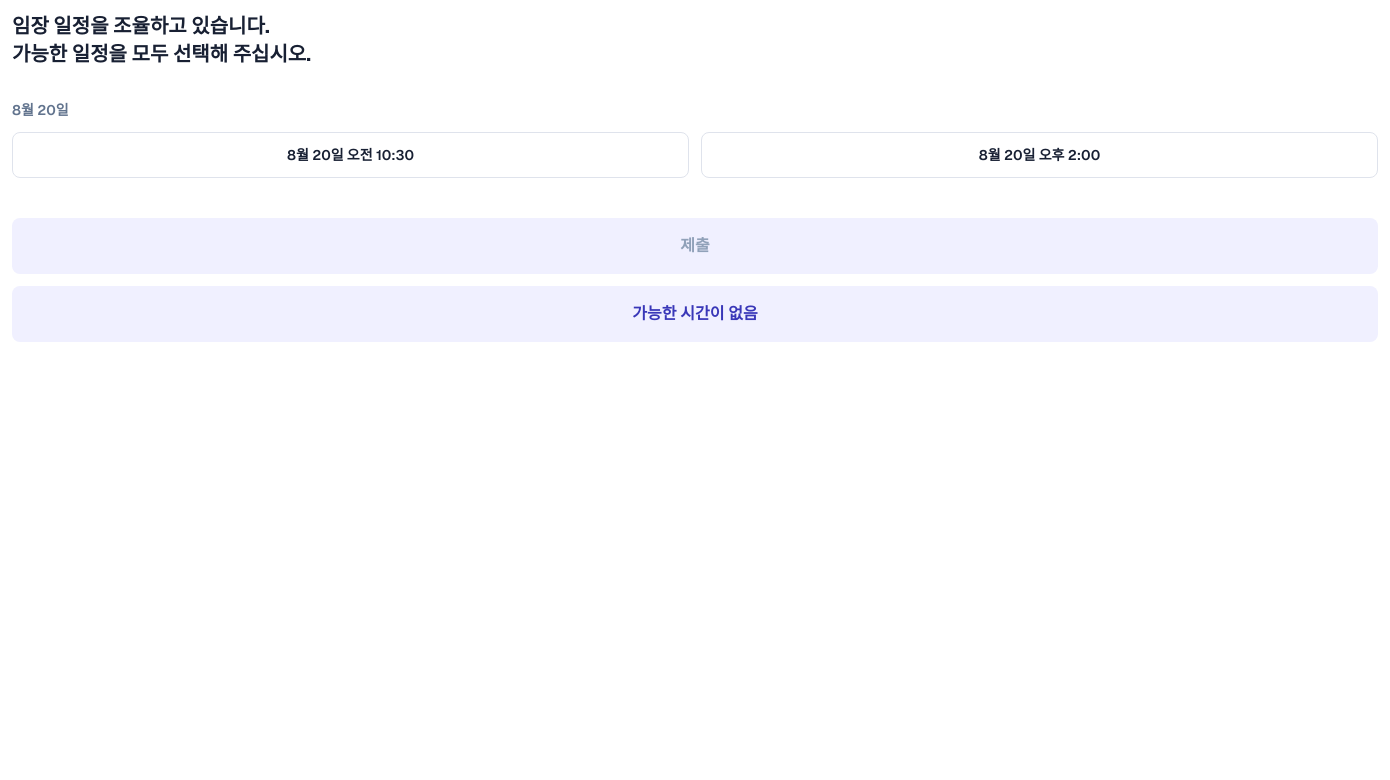
Scenario: VisitResponsePage › 가능한 시간이 없음을 제출하면 대기 안내 화면으로 전환된다
Expected: the button "8월 20일 오전 10:30" is shown, [12,132,689,178]
Step 1. Click the button "가능한 시간이 없음" → (695, 314), box [12,286,1378,342]
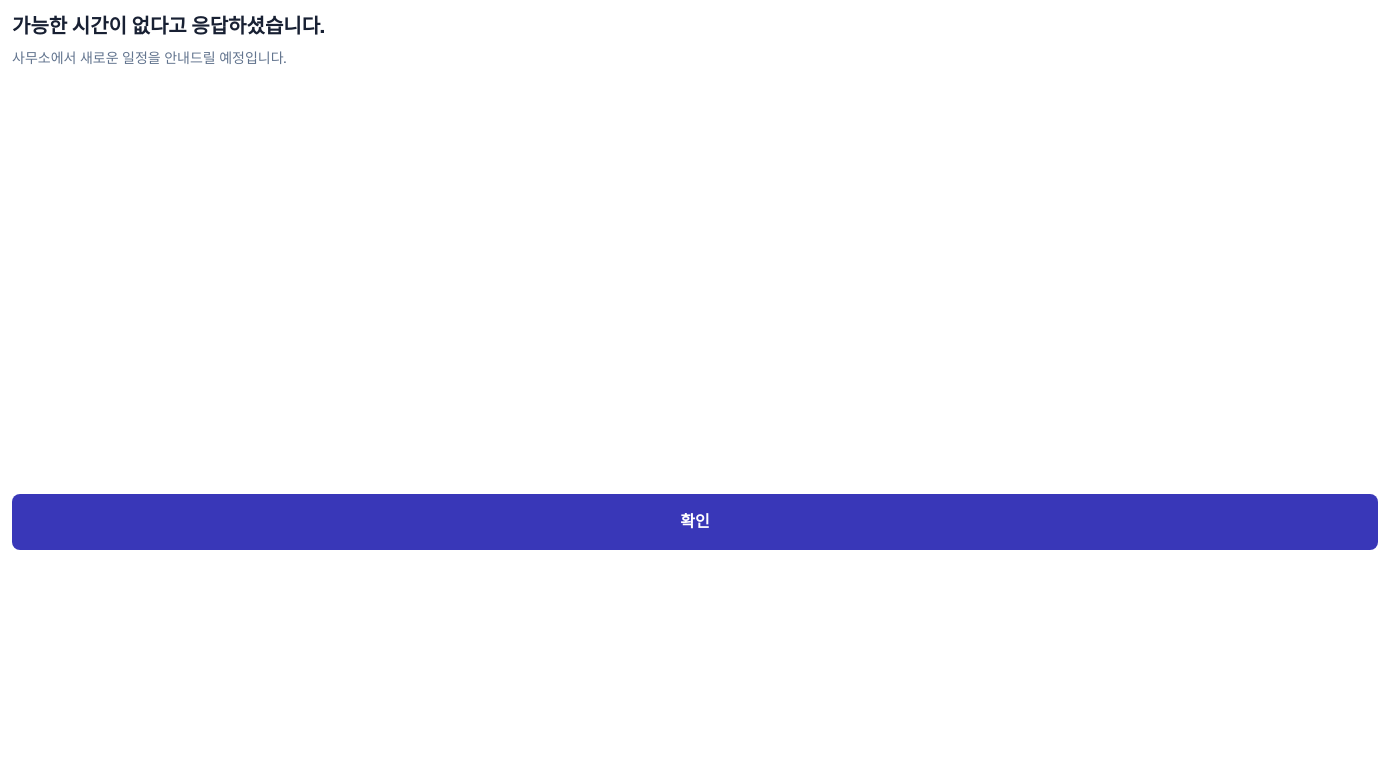
Now the heading "가능한 시간이 없다고 응답하셨습니다." is shown, box [12,13,325,39]
